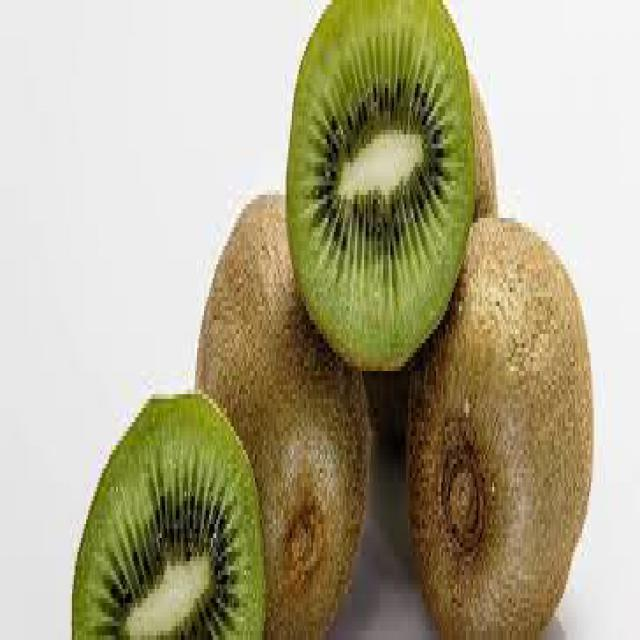kiwi: (399, 210, 594, 637), (193, 187, 373, 637)
